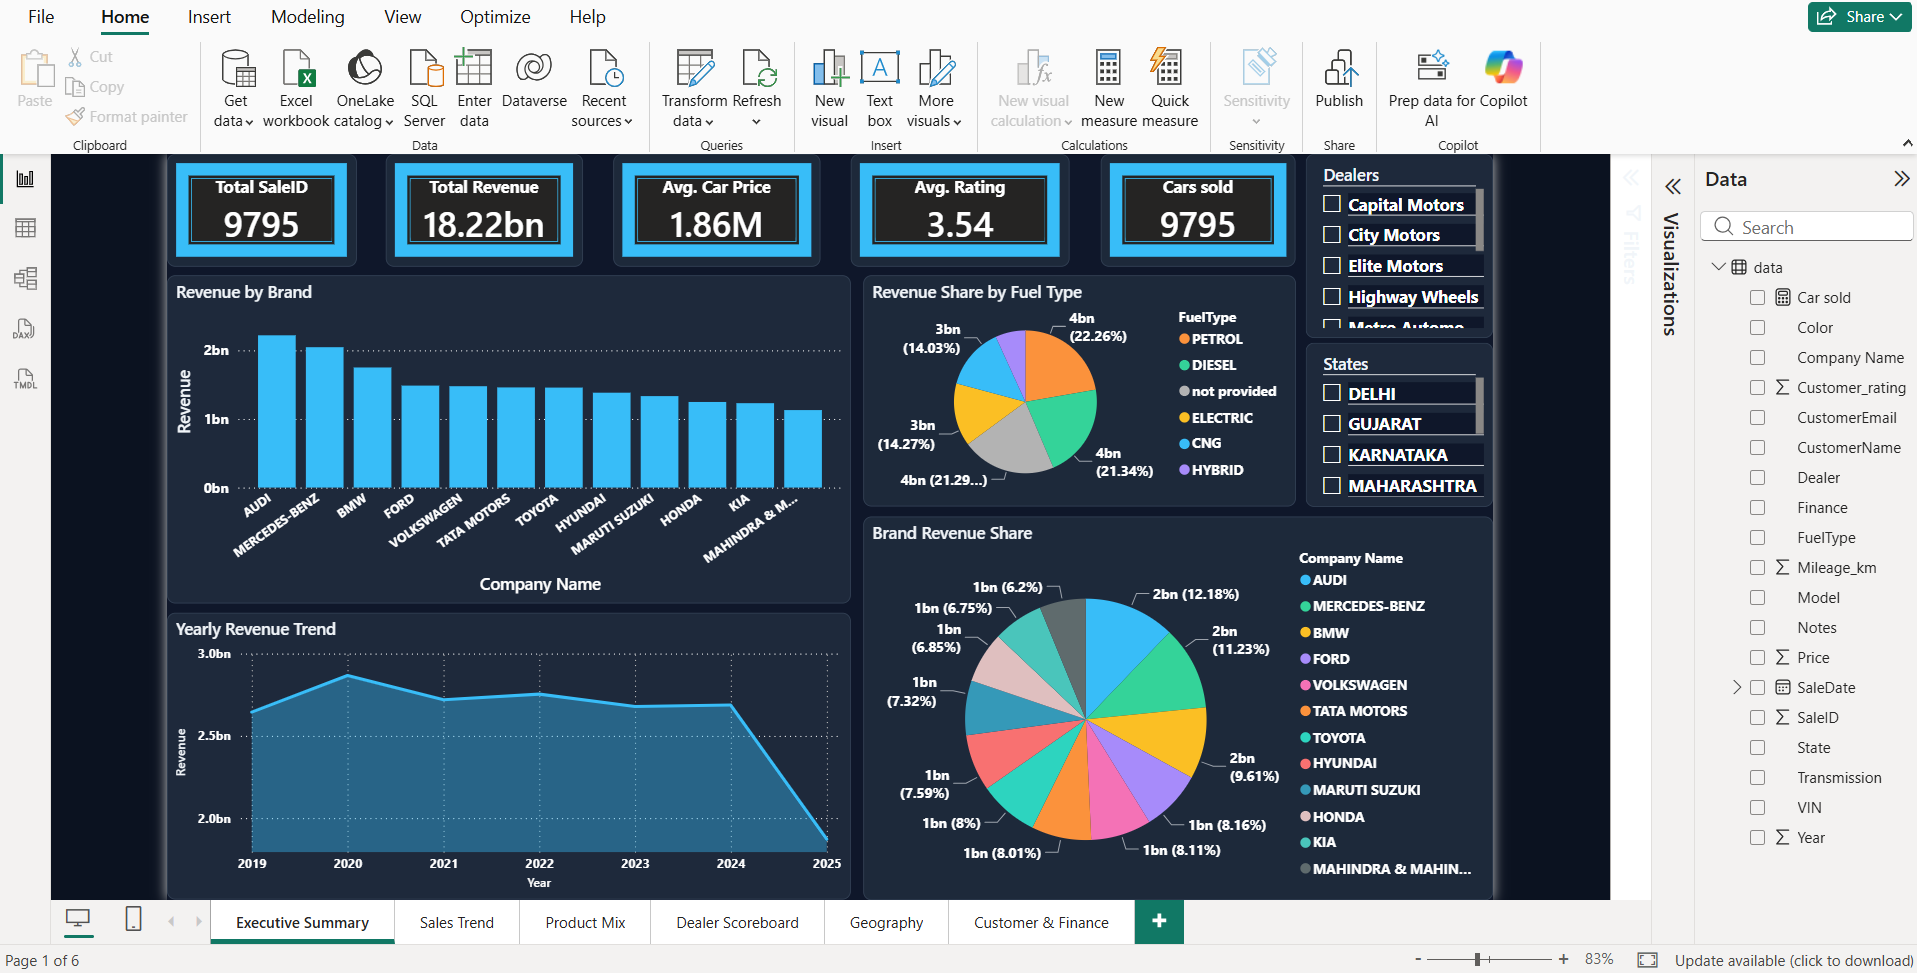

This screenshot's page, from the dashboard's own definition file:
{"tool":"powerbi","page":{"name":"Executive Summary","canvas":[1280,720],"ordinal":0},"visuals":[{"type":"cardVisual","fields":{"Data":["Count(data.SaleID)"]},"box":[0,0,183.4,108.8],"z":0},{"type":"cardVisual","fields":{"Data":["Sum(data.Price)"]},"box":[211.1,0,190.6,108.6],"z":1000},{"type":"cardVisual","fields":{"Data":["Avg(data.Customer_rating)"]},"box":[660.3,0,211.6,108.8],"z":2000},{"type":"cardVisual","fields":{"Data":["data.Car sold"]},"box":[901.2,0,188.3,108.8],"z":3000},{"type":"columnChart","title":"Revenue by Brand","fields":{"Category":["data.Company Name"],"Y":["Sum(data.Price)"]},"box":[0,117.4,660.3,316.7],"z":4000},{"type":"areaChart","title":"Yearly Revenue Trend","fields":{"Category":["data.SaleDate.Variation.Date Hierarchy.Year"],"Y":["Sum(data.Price)"]},"box":[0,443.2,660,277.2],"z":5000},{"type":"pieChart","title":"Brand Revenue Share","fields":{"Y":["Sum(data.Price)"],"Category":["data.Company Name"]},"box":[672,349.9,608,370.4],"z":6000},{"type":"pieChart","title":"Revenue Share by Fuel Type","fields":{"Y":["Sum(data.Price)"],"Category":["data.FuelType"]},"box":[672,117,417.4,223.2],"z":7000},{"type":"slicer","fields":{"Values":["data.State"]},"box":[1099.1,182.2,181,158],"z":8000},{"type":"slicer","fields":{"Values":["data.Dealer"]},"box":[1099.3,0,181,177.3],"z":9000},{"type":"cardVisual","fields":{"Data":["Avg(data.Price)"]},"box":[430.7,0,200.3,108.6],"z":12000}]}

Visuals, with their boxes on the page's 1280x720 design canvas (x1, y1, x2, y2). These are canvas units, not pixel positions in the 1917x973 screenshot, which may show the page scaled, cropped or inside an application window:
cardVisual - Count(data.SaleID): region(0, 0, 183, 109)
cardVisual - Sum(data.Price): region(211, 0, 402, 109)
cardVisual - Avg(data.Customer_rating): region(660, 0, 872, 109)
cardVisual - data.Car sold: region(901, 0, 1090, 109)
"Revenue by Brand" columnChart: region(0, 117, 660, 434)
"Yearly Revenue Trend" areaChart: region(0, 443, 660, 720)
"Brand Revenue Share" pieChart: region(672, 350, 1280, 720)
"Revenue Share by Fuel Type" pieChart: region(672, 117, 1089, 340)
slicer - data.State: region(1099, 182, 1280, 340)
slicer - data.Dealer: region(1099, 0, 1280, 177)
cardVisual - Avg(data.Price): region(431, 0, 631, 109)
